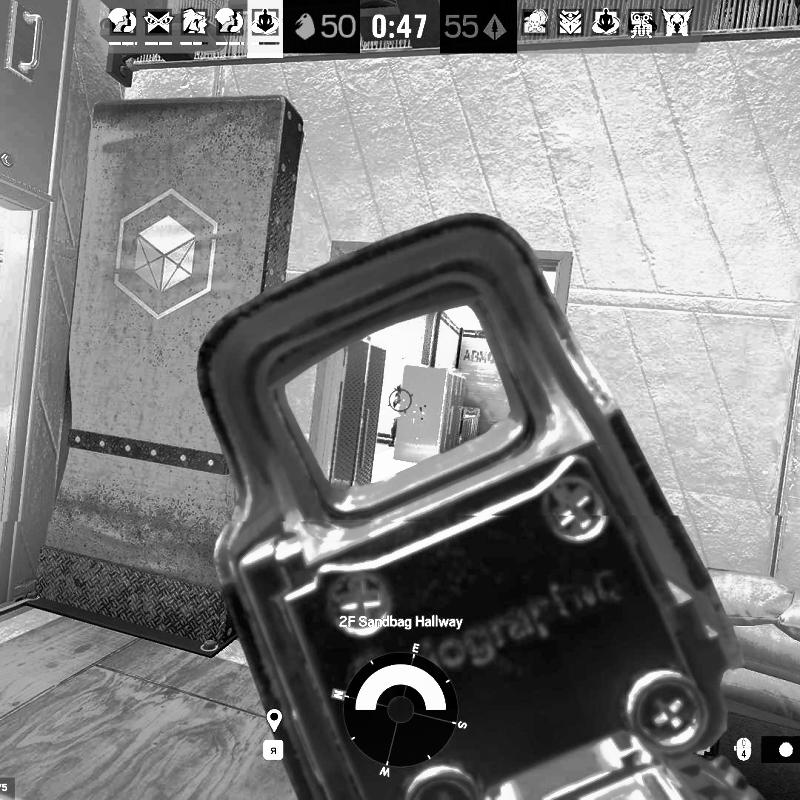Character: (388, 380, 404, 448)
Head: (396, 381, 402, 393)
